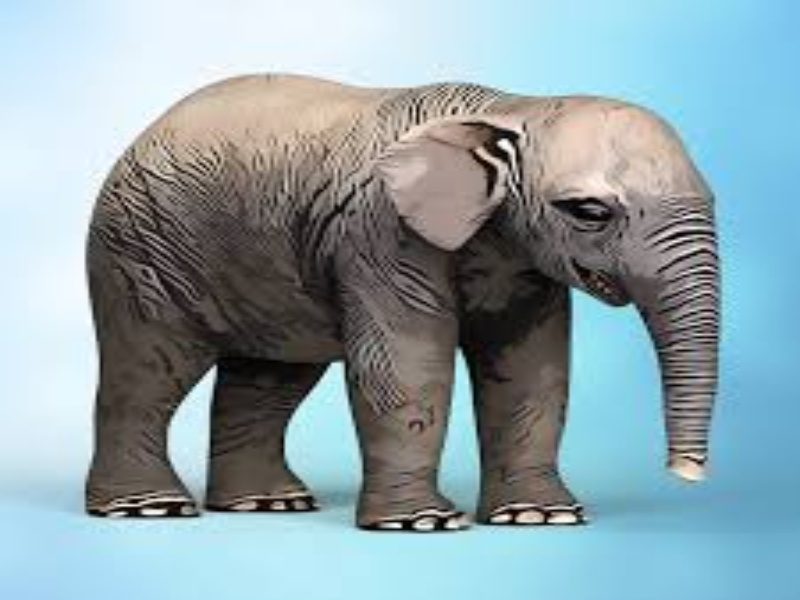elephant: (67, 55, 748, 562)
